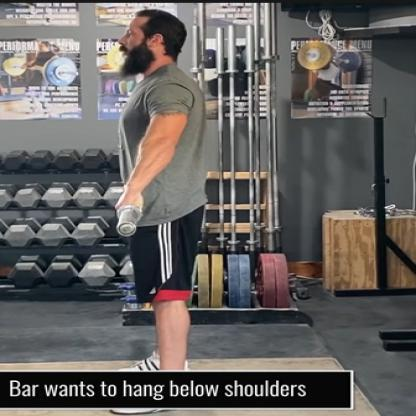Barbell: (116, 220, 141, 239)
